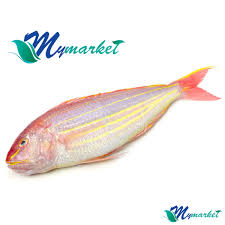Ikan Kerisi: (2, 69, 223, 176)
